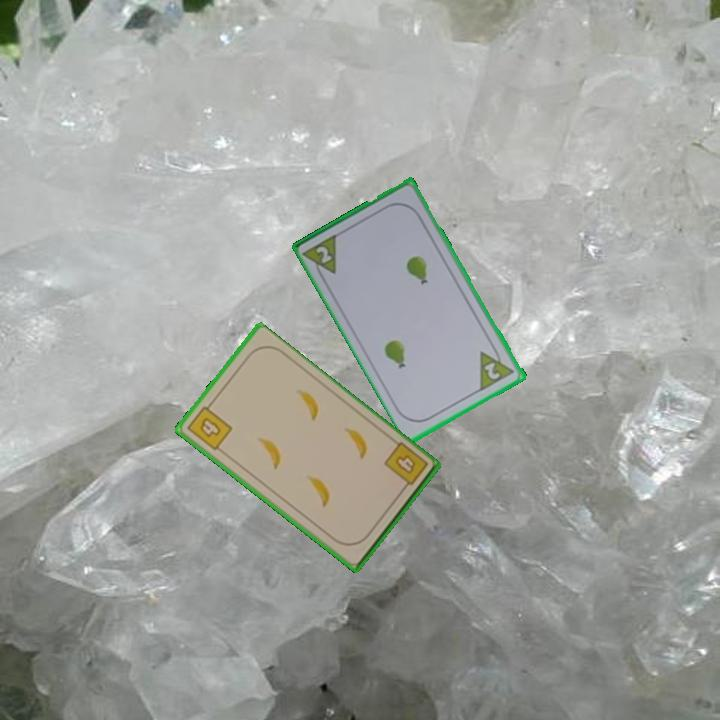2p: (476, 341, 518, 394), (301, 230, 341, 283)
4b: (183, 398, 235, 453), (380, 439, 431, 495)
